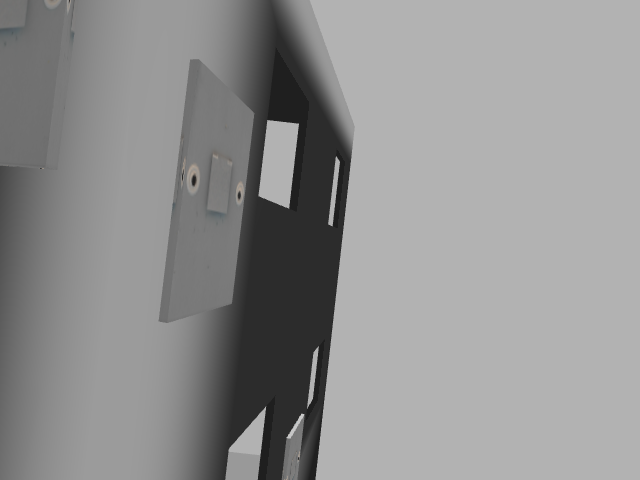facade: (186, 149, 246, 215)
